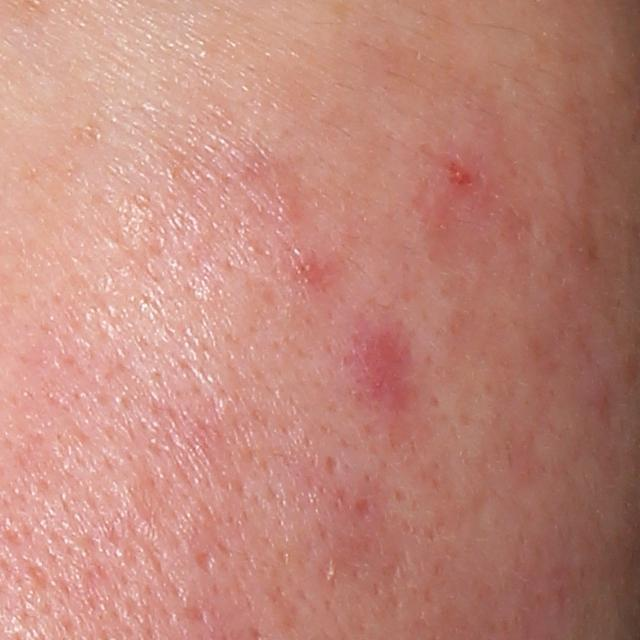atrophic_scar: (124, 476, 160, 535), (193, 551, 214, 575)
papule: (350, 319, 411, 400), (429, 153, 483, 204), (281, 249, 324, 286)
